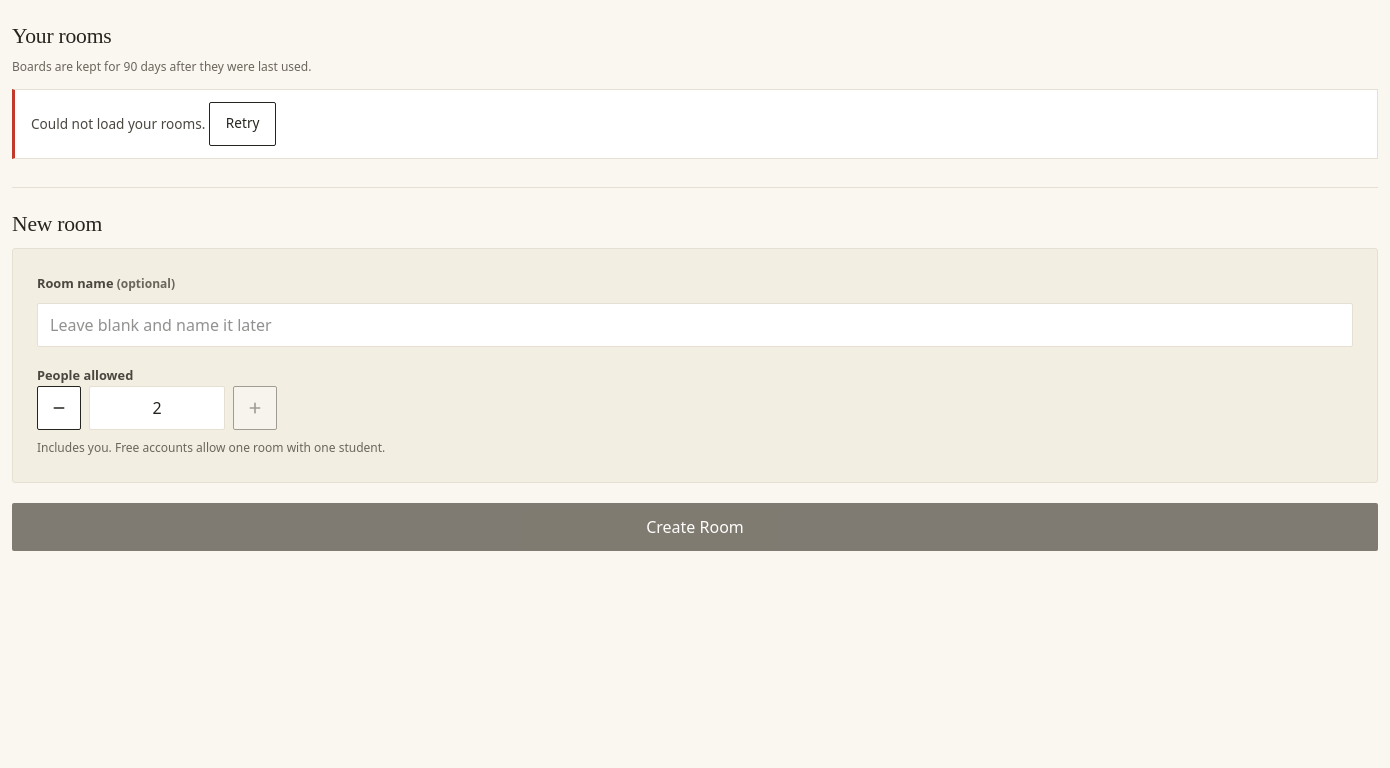
Test: TeacherRoomsPanel › shows a retryable load error when the first rooms read fails, and unlocks Create after Retry
Expected: the message "Could not load your rooms. Retry" is shown, [12, 89, 1378, 159]
Expected: the button with test id "whiteboard-create-room-btn" is disabled, [12, 503, 1378, 551]
Click the button with test id "whiteboard-room-list-retry".
click(243, 124)  # box [209, 102, 276, 146]
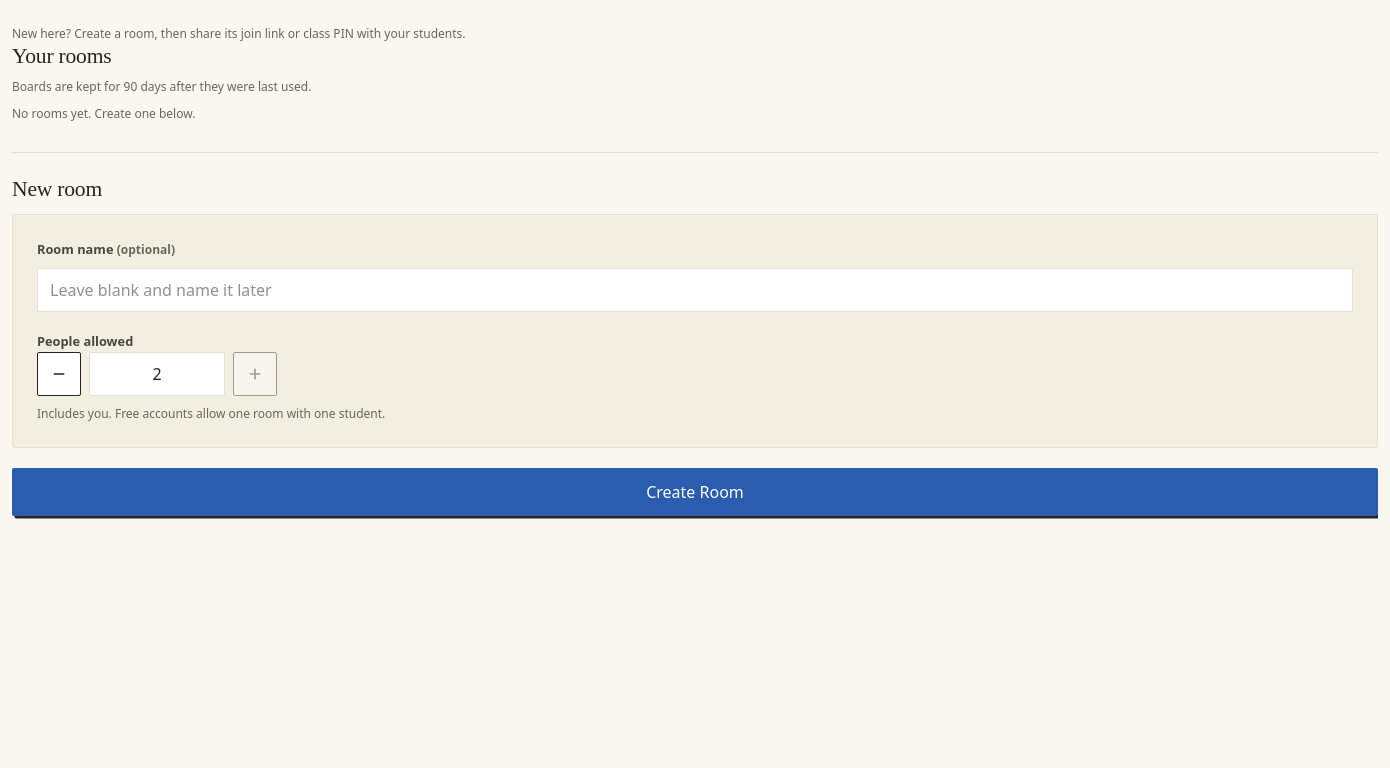
Now the text "No rooms yet. Create one below." is shown, box [12, 105, 195, 122]
Now the message with test id "whiteboard-room-list-error" is gone
Now the button with test id "whiteboard-create-room-btn" is enabled, box [12, 468, 1378, 516]
